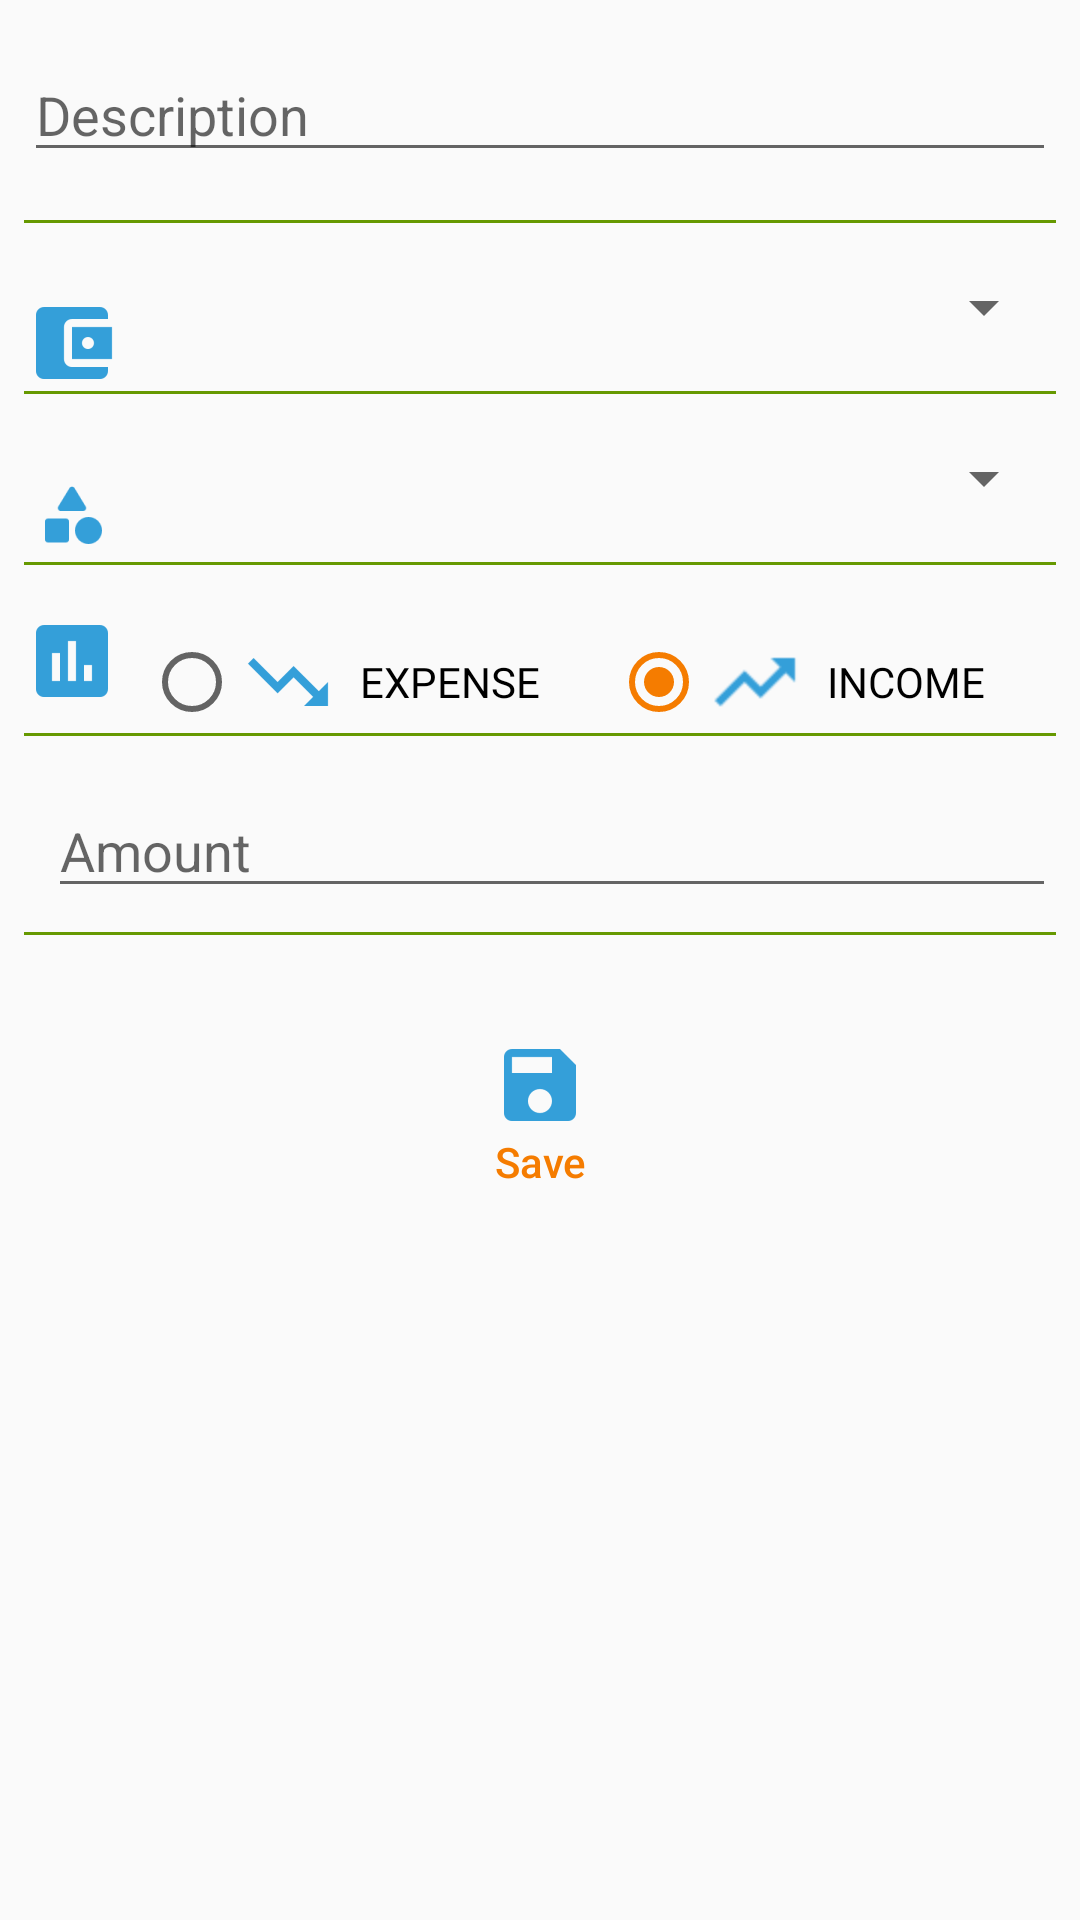

Icons on this 1080×1920 Android screen, each with its box as (x1, y1, x2, y2):
Account: (36, 307, 112, 379)
Category: (45, 486, 102, 544)
